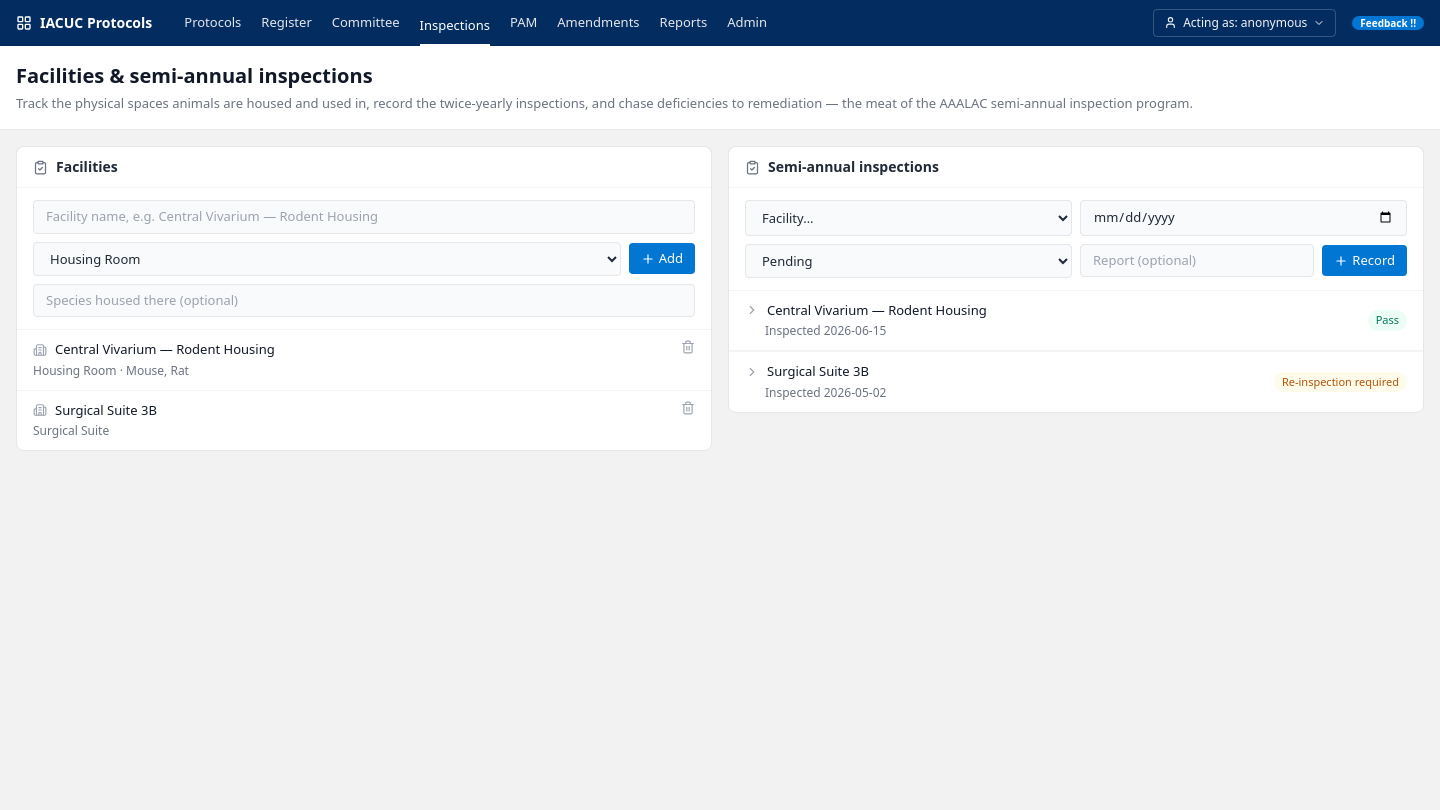
Test: InspectionsPage — inspections panel › expanding an inspection loads its deficiencies
This screenshot has width=1440, height=810.
Click the text "Inspected 2026-06-15" at (826, 330), box [765,322,886,339]
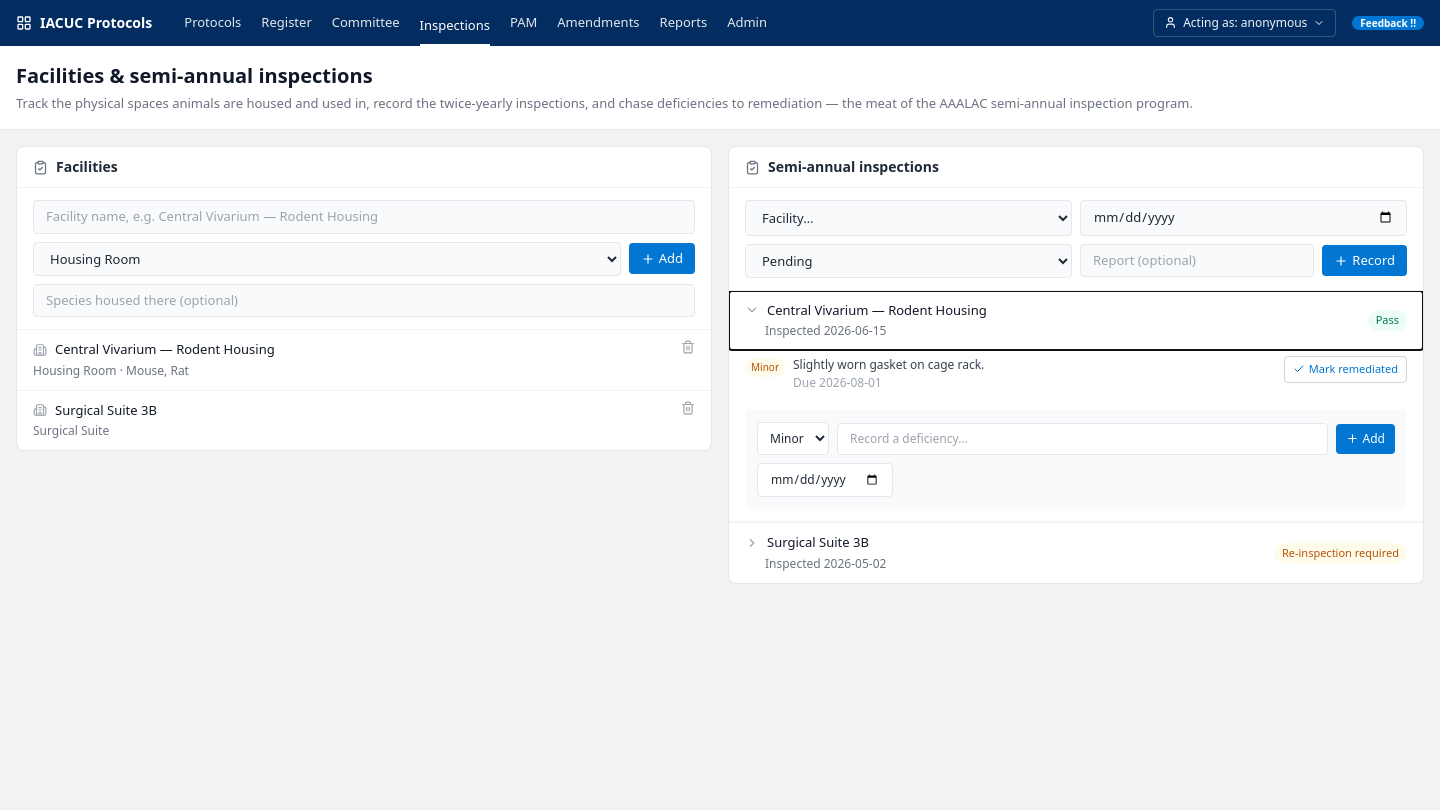
Expected: the text "Slightly worn gasket on cage rack." is shown, [793,356,984,374]
Expected: the text "Minor" is shown, [745,358,785,377]
Expected: the text "Due 2026-08-01" is shown, [793,374,882,391]
